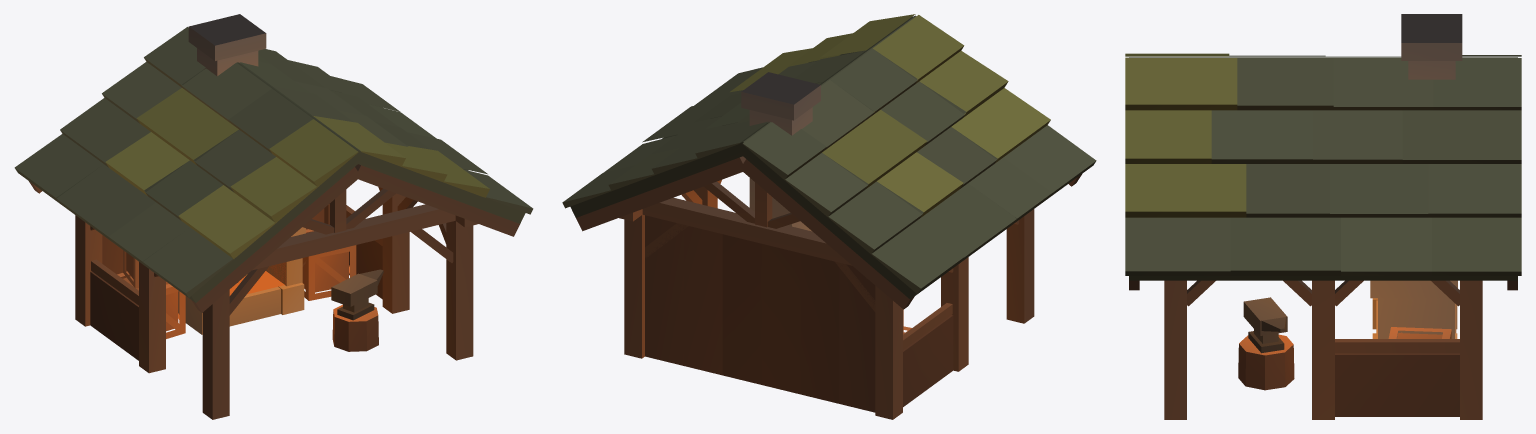
Rendered from smithy.glb.
3 views of the same model, side by side, from view 1: azimuth 30°, elevation 25°; view 2: azimuth 150°, elevation 25°; view 3: azimuth 270°, elevation 25° (orthographic). The views are drawn at different scales.
Parts seen in each view (by area): view 1: lit, glow; view 2: lit; view 3: lit.
Boxes of the visible parts, x1,y1,x2,y2 form: lit: [14, 14, 533, 419]; glow: [229, 262, 286, 295]; lit: [562, 14, 1096, 419]; lit: [1125, 14, 1521, 419].
Size of the model in its own units: 6.13 by 4.6 by 5.2.
